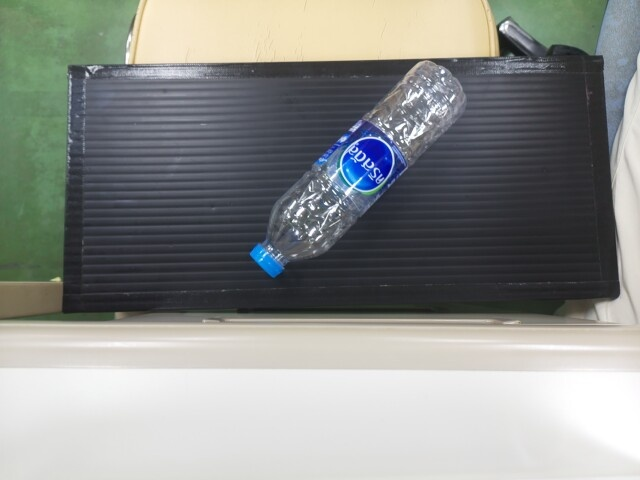plastic_bottle: (259, 68, 425, 274)
